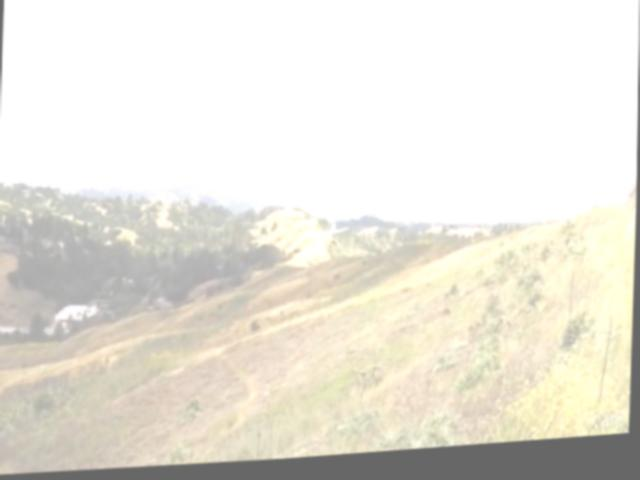iha: (300, 226, 349, 246)
